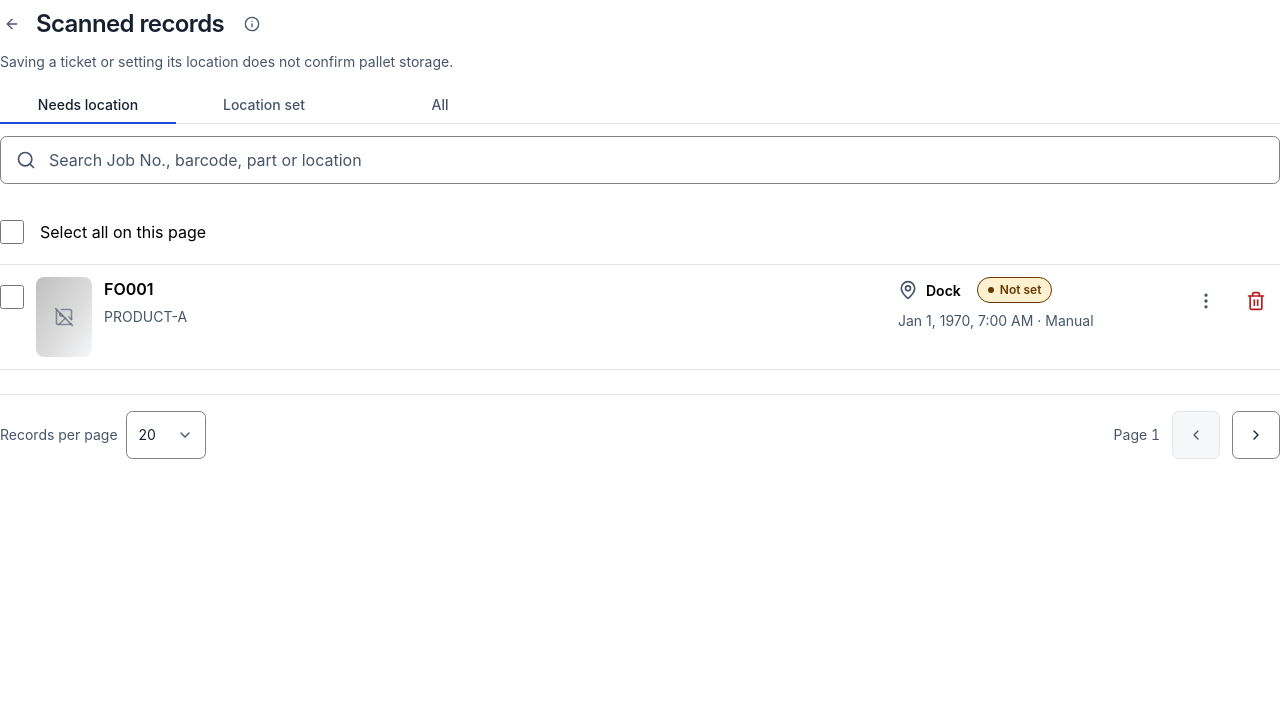
Scenario: scanned record deletion › locks the assignment workflow until saving completes
The image size is (1280, 720).
Click the checkbox named "Select FO001" at [12, 297], box left=0, top=285, right=24, bottom=309
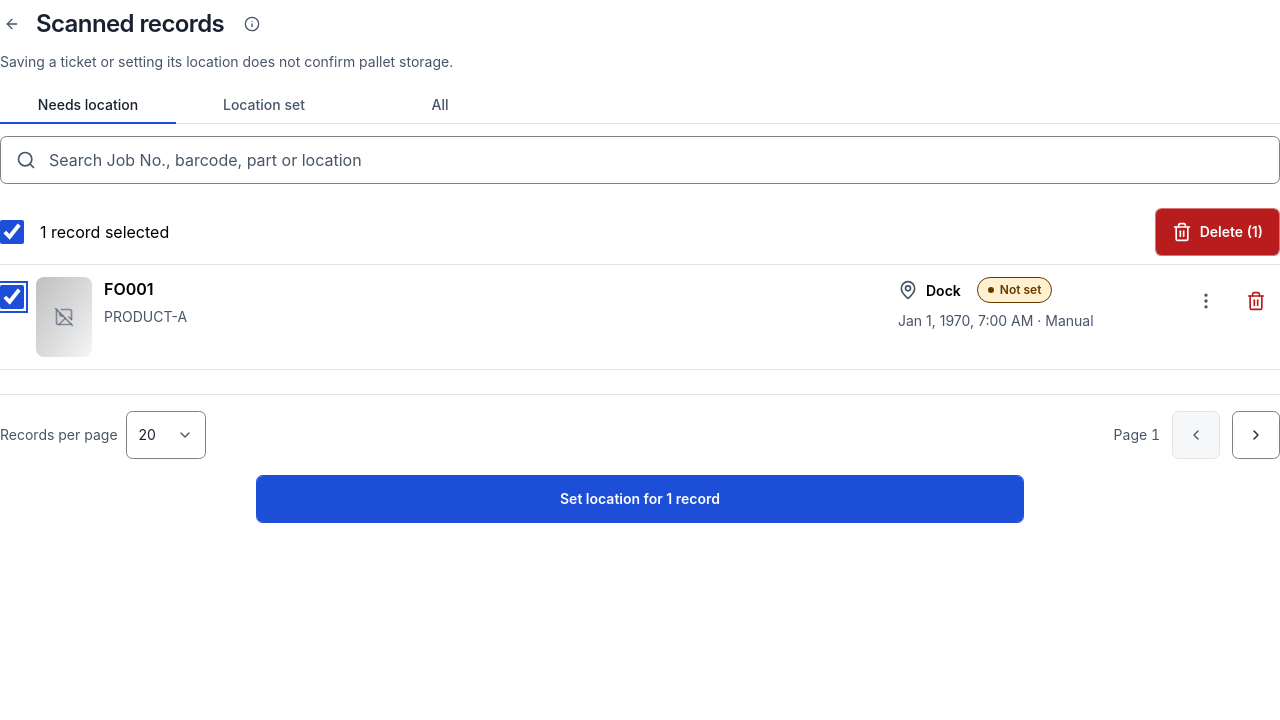
Click the button "Set location for 1 record" at [640, 499], box left=256, top=475, right=1024, bottom=523
(page scrolled)
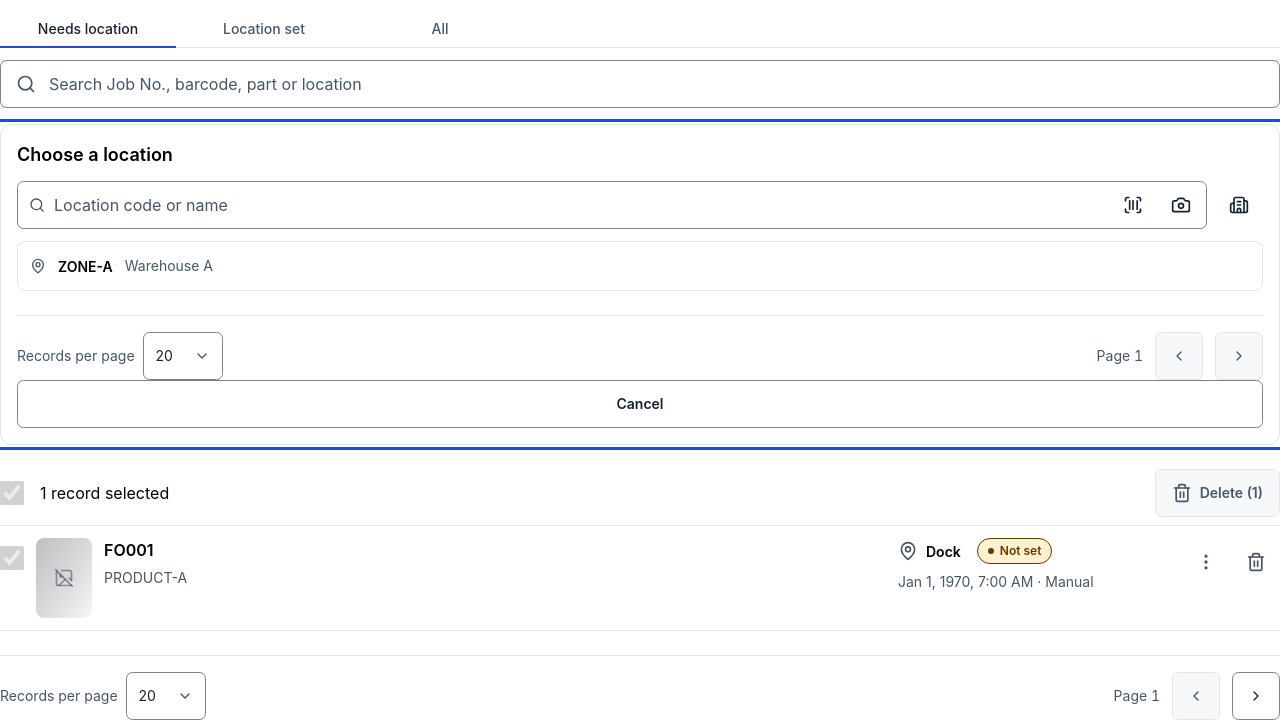
Click the button "ZONE-A Warehouse A" at [85, 266], box left=18, top=242, right=1262, bottom=290
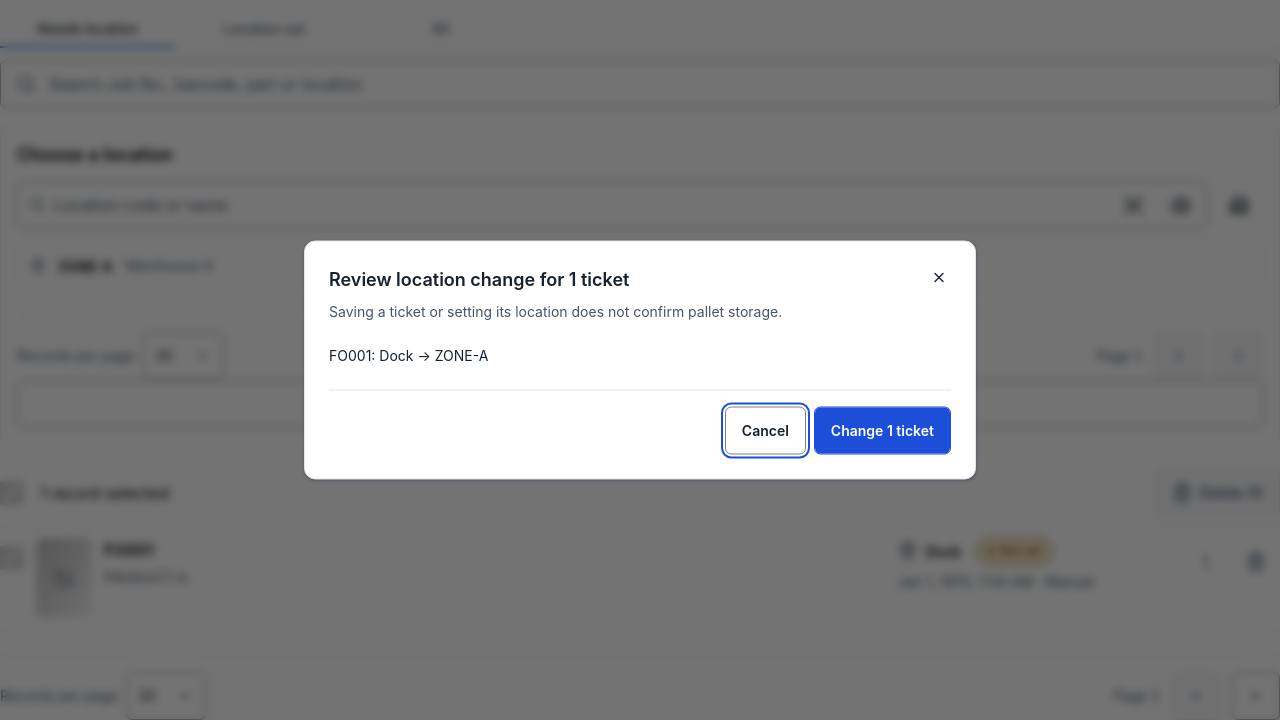
Click the button "Change 1 ticket" at [882, 430], box left=814, top=406, right=951, bottom=454
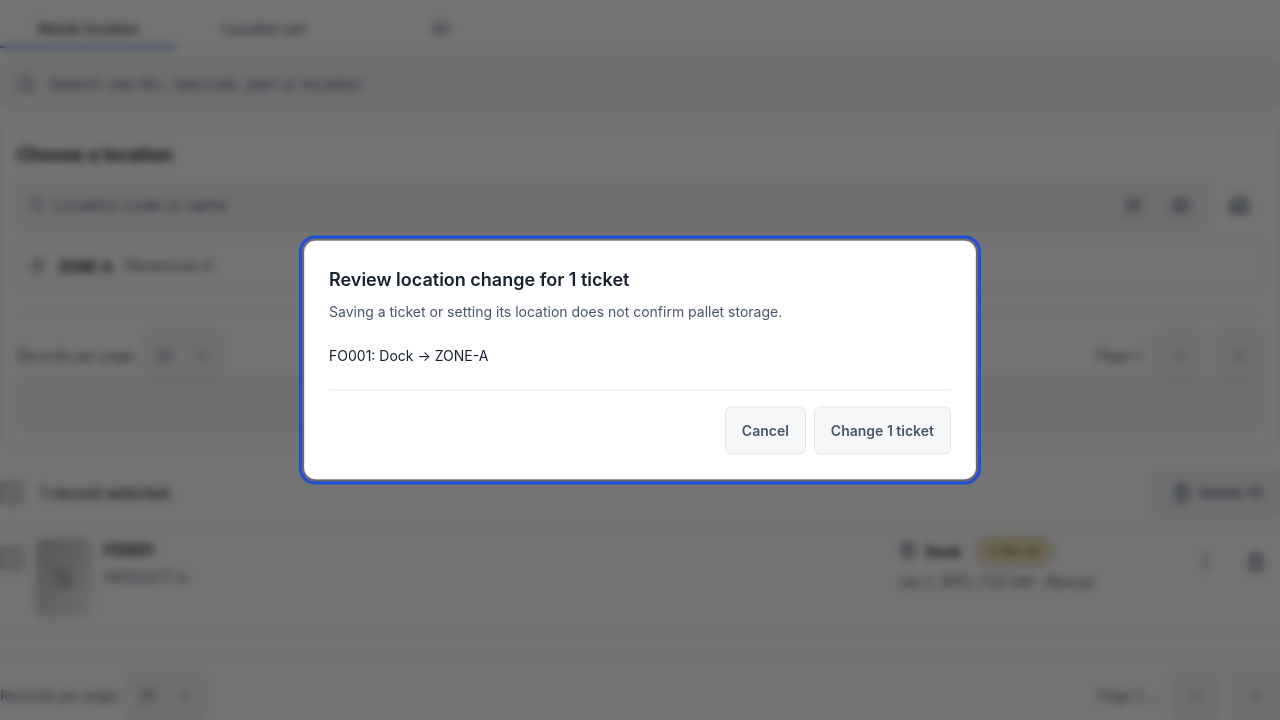
Expected: the button "All" is disabled, left=352, top=12, right=528, bottom=48
Now the button "ZONE-A Warehouse A" is disabled, box left=18, top=242, right=1262, bottom=290
Now the button "Cancel" is disabled, box left=725, top=406, right=806, bottom=454
Click the button "Change 1 ticket" at [882, 430], box left=814, top=406, right=951, bottom=454
(page scrolled)
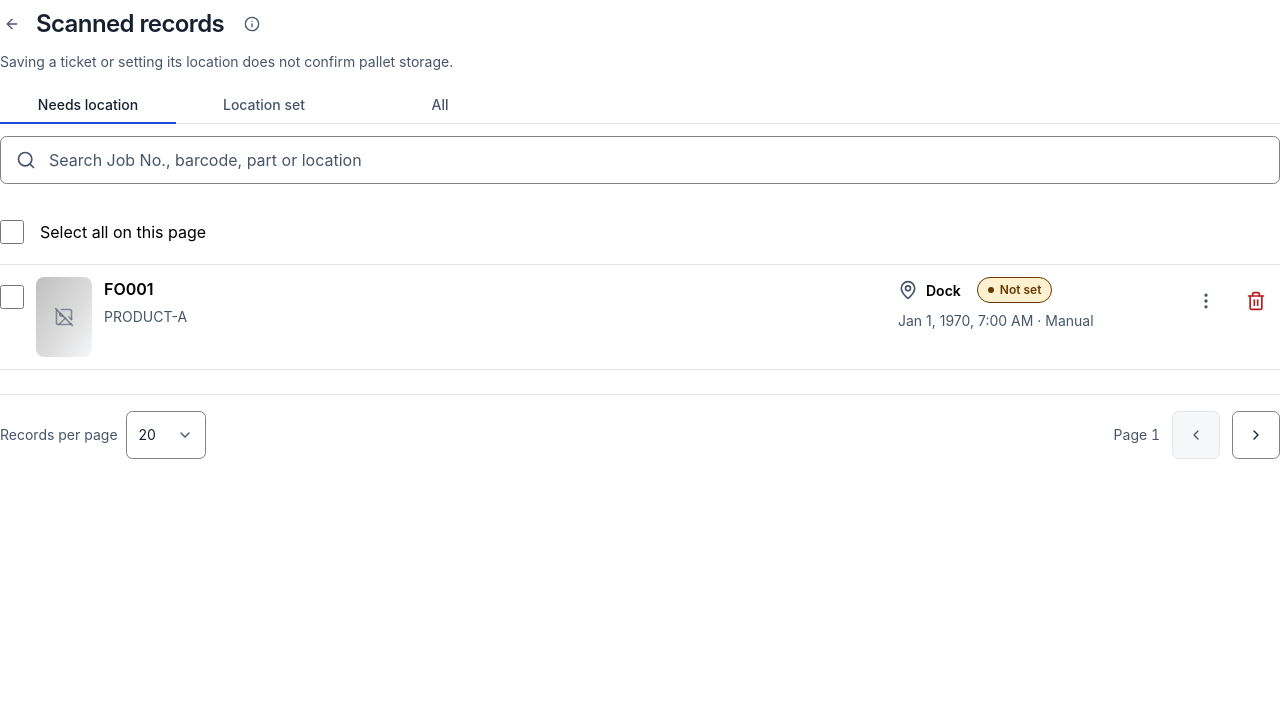
Now the checkbox named "Select FO001" is not checked, box left=0, top=285, right=24, bottom=309
Now the heading "Choose a location" is gone
